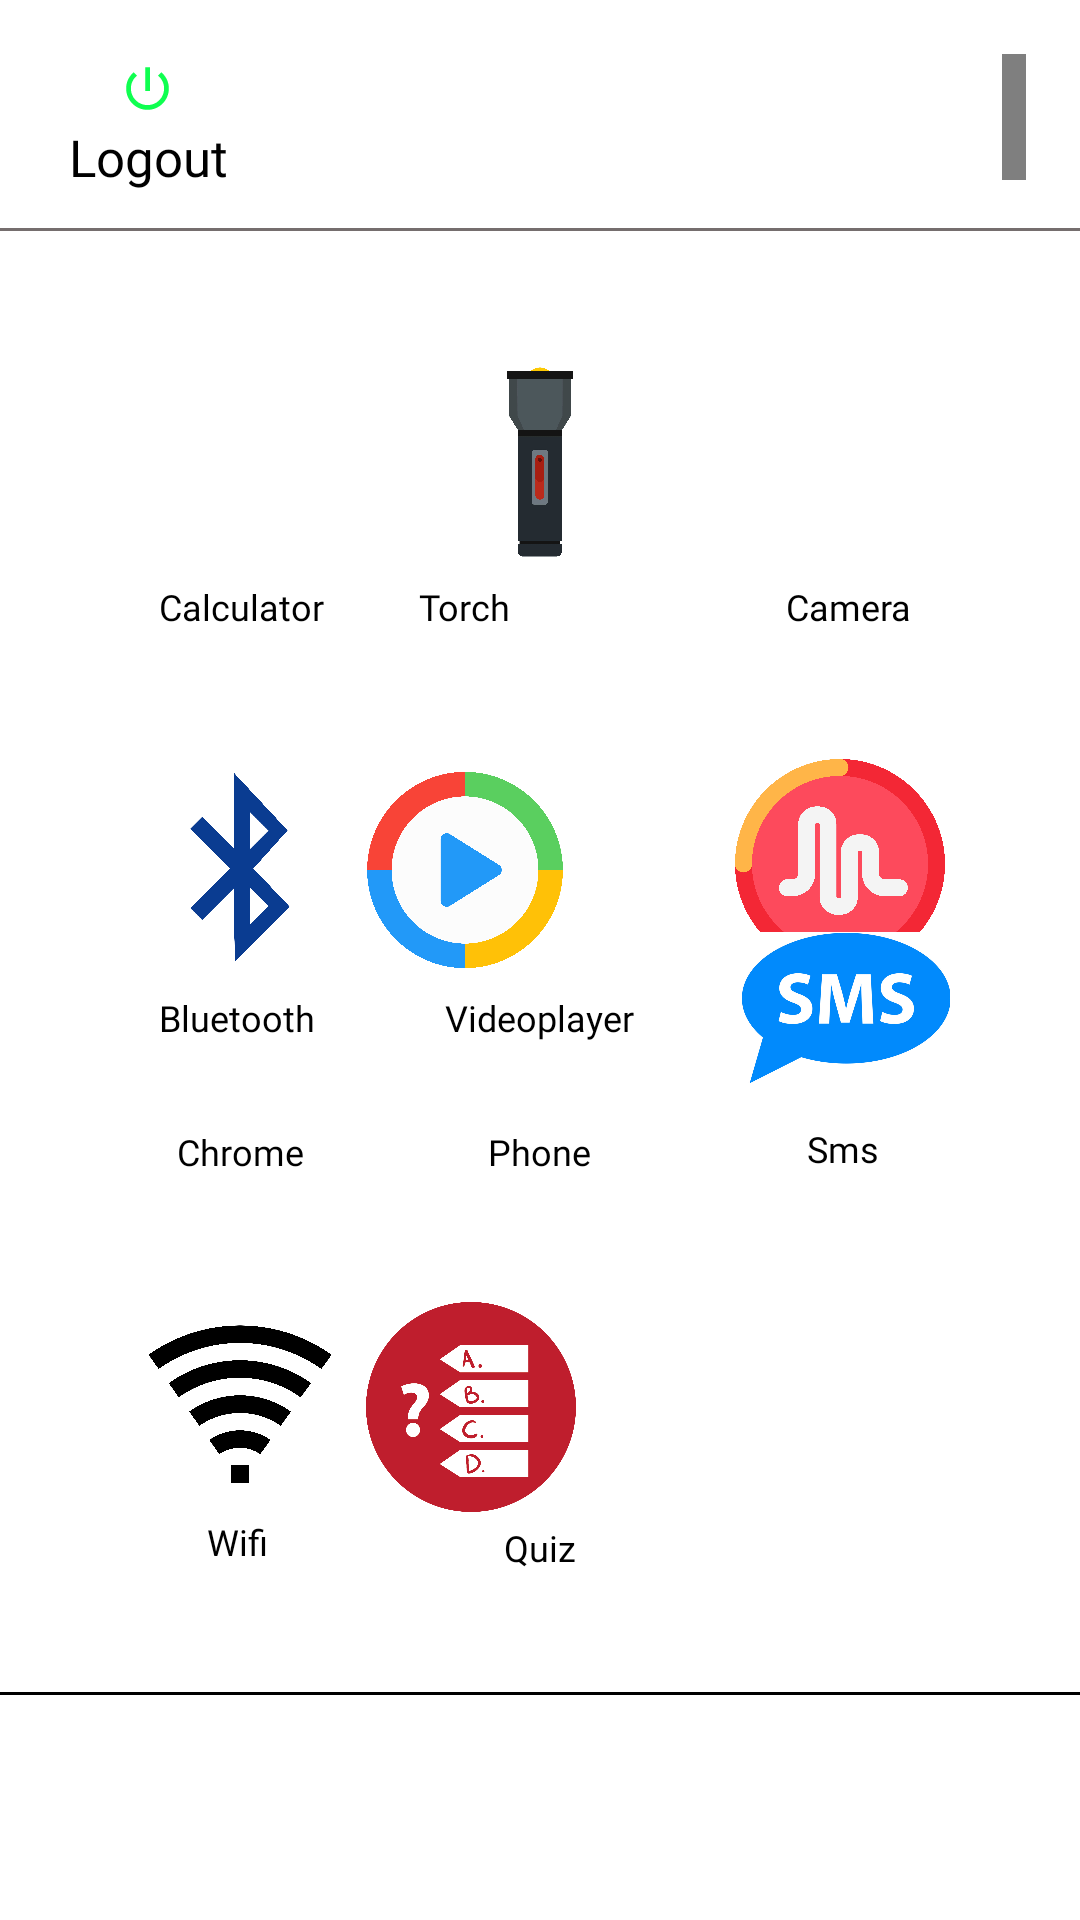

Icon click points for this 1080 x 1920 phone screenshot, format (x=x, y=y):
power settings: (x=147, y=88)
